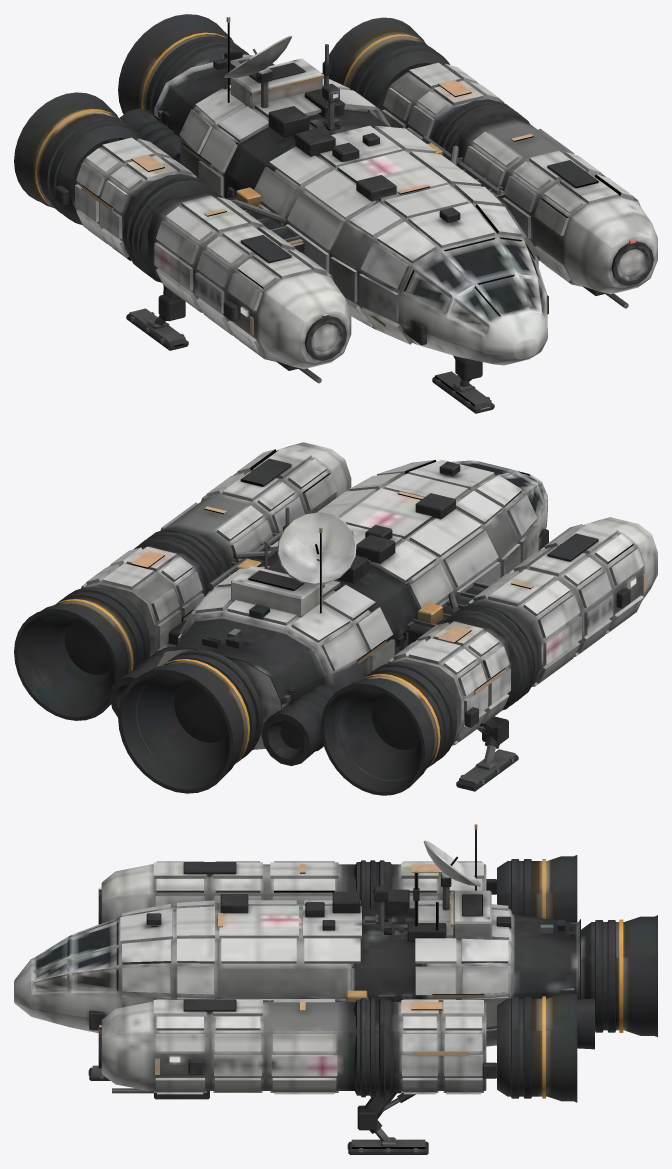
File: ship-stellar.glb
The picture shows the model from 3 angles, top to bottom: view 1: azimuth 30°, elevation 25°; view 2: azimuth 150°, elevation 25°; view 3: azimuth 270°, elevation 25°; orthographic projection. The views are drawn at different scales.
Parts seen in each view (by area): view 1: ShipStellar_Body, Gear_Mesh; view 2: ShipStellar_Body, Gear_Mesh; view 3: ShipStellar_Body, Gear_Mesh.
Part boxes in pixels (x1,y1,x2,y2): ShipStellar_Body: [14, 14, 657, 383]; Gear_Mesh: [126, 285, 494, 413]; ShipStellar_Body: [14, 442, 657, 795]; Gear_Mesh: [456, 716, 518, 791]; ShipStellar_Body: [14, 824, 657, 1102]; Gear_Mesh: [88, 1065, 428, 1154].
Size of what is drawn, in the model's own units: 12.64 by 7.31 by 18.4.
Materials: 2 (2 with a texture image).
